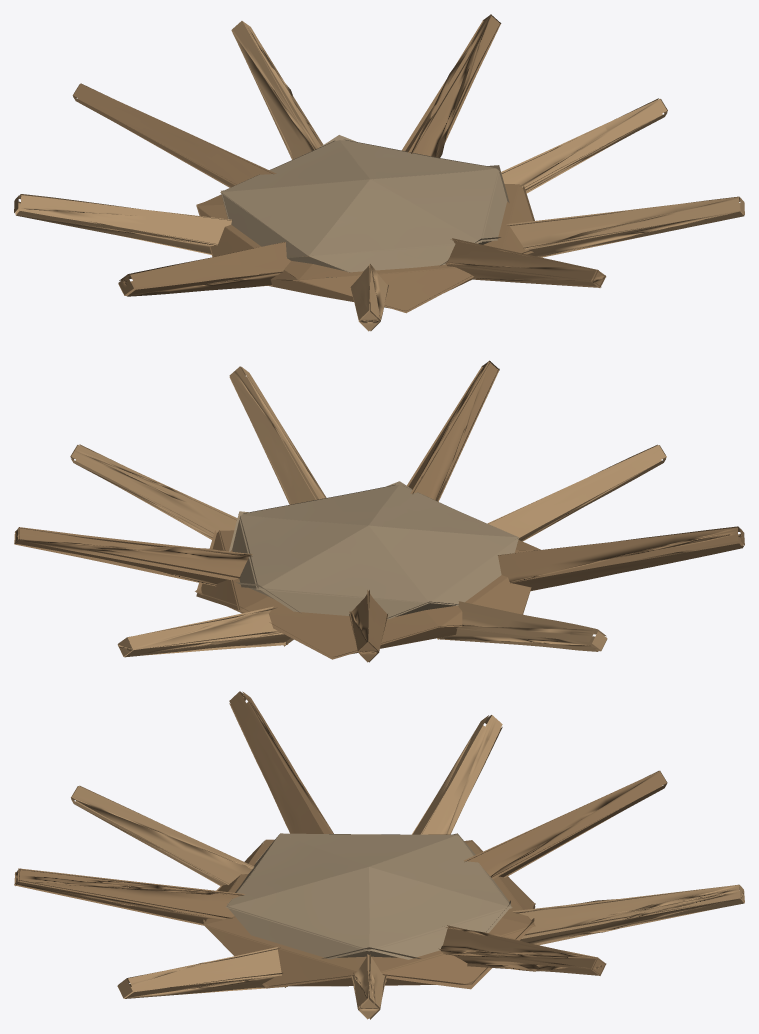
The model's file is nest.glb.
3 views of the same model, one above another, from view 1: azimuth 30°, elevation 25°; view 2: azimuth 150°, elevation 25°; view 3: azimuth 270°, elevation 25° (orthographic).
Visible parts, largest first — view 1: NestTwig0; view 2: NestTwig0; view 3: NestTwig0.
Part boxes in pixels (bbox=[...]): NestTwig0: bbox=[14, 14, 744, 331]; NestTwig0: bbox=[14, 360, 744, 662]; NestTwig0: bbox=[14, 691, 744, 1019].
Size of the model in its own units: 2.08 by 0.3437 by 2.16.
